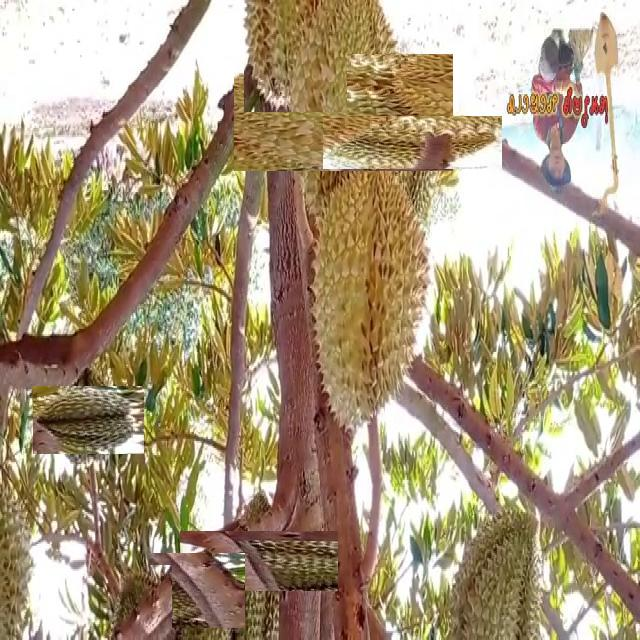durian: (300, 163, 436, 444), (259, 28, 428, 196), (443, 505, 547, 640), (355, 84, 471, 201), (204, 506, 314, 615), (244, 2, 347, 112), (43, 375, 133, 465), (154, 548, 240, 634), (112, 565, 172, 636)
